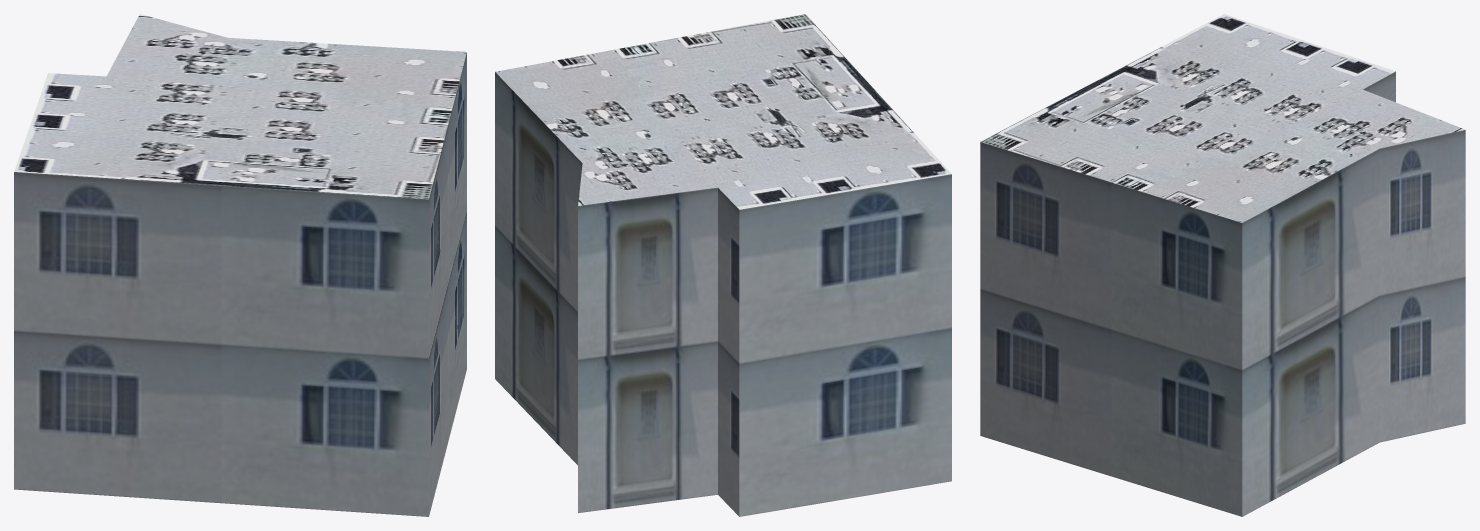
File: ResTex__4318.fbx
The picture shows the model from 3 angles, left to right: view 1: azimuth 30°, elevation 25°; view 2: azimuth 150°, elevation 25°; view 3: azimuth 270°, elevation 25°; orthographic projection. The views are drawn at different scales.
Parts seen in each view (by area): view 1: CityEngineMaterial_17_m, CityEngineMaterial_8_m; view 2: CityEngineMaterial_17_m, CityEngineMaterial_8_m; view 3: CityEngineMaterial_17_m, CityEngineMaterial_8_m.
Part boxes in pixels (x1,y1,x2,y2): CityEngineMaterial_17_m: (14, 53, 466, 516); CityEngineMaterial_8_m: (14, 14, 466, 199); CityEngineMaterial_17_m: (495, 72, 951, 516); CityEngineMaterial_8_m: (495, 14, 951, 209); CityEngineMaterial_17_m: (980, 71, 1465, 516); CityEngineMaterial_8_m: (980, 14, 1464, 222).
Size of the model in its own units: 9.15 by 6 by 8.98.
Materials: 2 (2 with a texture image).
